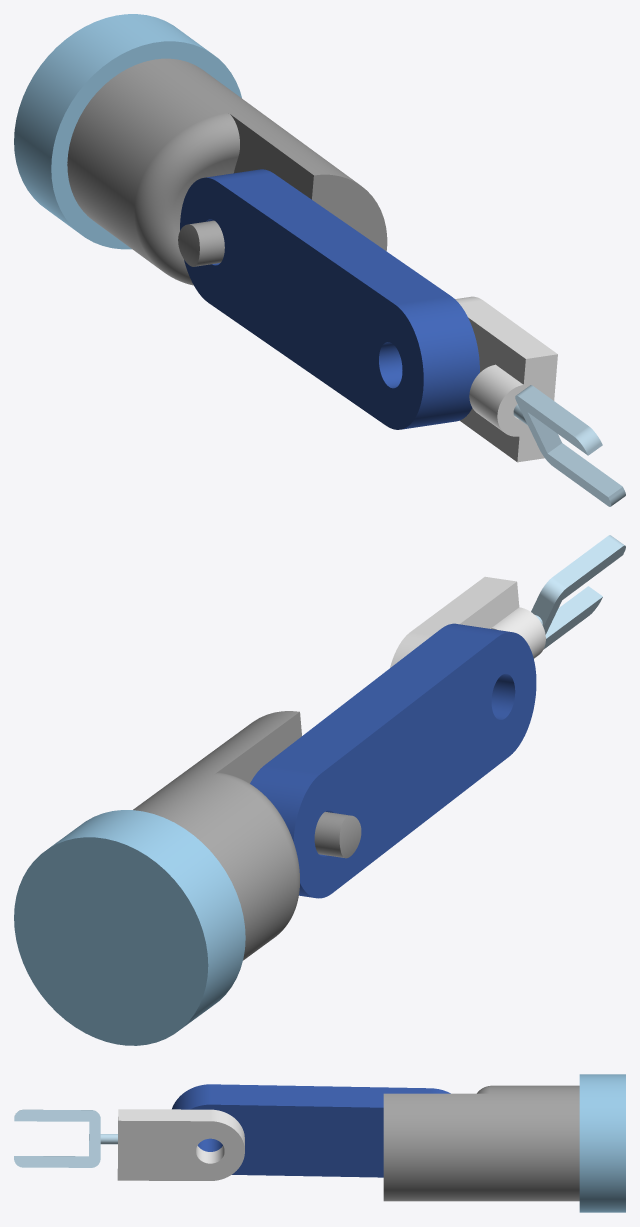
Rendered from Assembly 1.obj.
The picture shows the model from 3 angles, top to bottom: view 1: azimuth 30°, elevation 25°; view 2: azimuth 150°, elevation 25°; view 3: azimuth 270°, elevation 25°; orthographic projection. The views are drawn at different scales.
Visible parts, largest first — view 1: mesh22, mesh41, mesh1, mesh25, mesh43, mesh24, mesh2, mesh42, mesh37, mesh31, mesh45, mesh32 (+8 smaller); view 2: mesh0, mesh22, mesh41, mesh1, mesh25, mesh26, mesh32, mesh45, mesh16, mesh38, mesh37, mesh9 (+5 smaller); view 3: mesh41, mesh23, mesh35, mesh1, mesh25, mesh17, mesh32, mesh24, mesh33, mesh36, mesh21.
Part boxes in pixels (bbox=[...]): mesh22: bbox=[180, 177, 423, 429]; mesh41: bbox=[67, 58, 359, 269]; mesh1: bbox=[14, 14, 209, 231]; mesh25: bbox=[218, 173, 450, 304]; mesh43: bbox=[134, 112, 239, 285]; mesh24: bbox=[395, 296, 479, 429]; mesh2: bbox=[51, 41, 241, 249]; mesh42: bbox=[312, 174, 387, 250]; mesh37: bbox=[460, 317, 525, 461]; mesh31: bbox=[497, 354, 557, 462]; mesh45: bbox=[230, 114, 313, 199]; mesh32: bbox=[460, 300, 557, 358]; mesh0: bbox=[14, 837, 208, 1045]; mesh22: bbox=[293, 632, 536, 898]; mesh41: bbox=[133, 711, 299, 960]; mesh1: bbox=[50, 810, 245, 1027]; mesh25: bbox=[264, 628, 497, 773]; mesh26: bbox=[250, 765, 319, 897]; mesh32: bbox=[410, 576, 516, 635]; mesh45: bbox=[216, 712, 301, 783]; mesh16: bbox=[543, 545, 625, 649]; mesh38: bbox=[492, 607, 545, 658]; mesh37: bbox=[460, 582, 519, 628]; mesh9: bbox=[552, 536, 621, 587]; mesh41: bbox=[383, 1085, 579, 1201]; mesh23: bbox=[190, 1104, 383, 1177]; mesh35: bbox=[118, 1120, 244, 1180]; mesh1: bbox=[579, 1074, 625, 1212]; mesh25: bbox=[211, 1084, 430, 1107]; mesh17: bbox=[14, 1110, 100, 1167]; mesh32: bbox=[118, 1109, 210, 1121]; mesh24: bbox=[172, 1084, 211, 1109]; mesh33: bbox=[210, 1109, 244, 1147]; mesh36: bbox=[196, 1145, 224, 1163]; mesh21: bbox=[197, 1138, 222, 1151].
Bounding box in the file's own units: 0.12 × 0.1198 × 0.5301.
